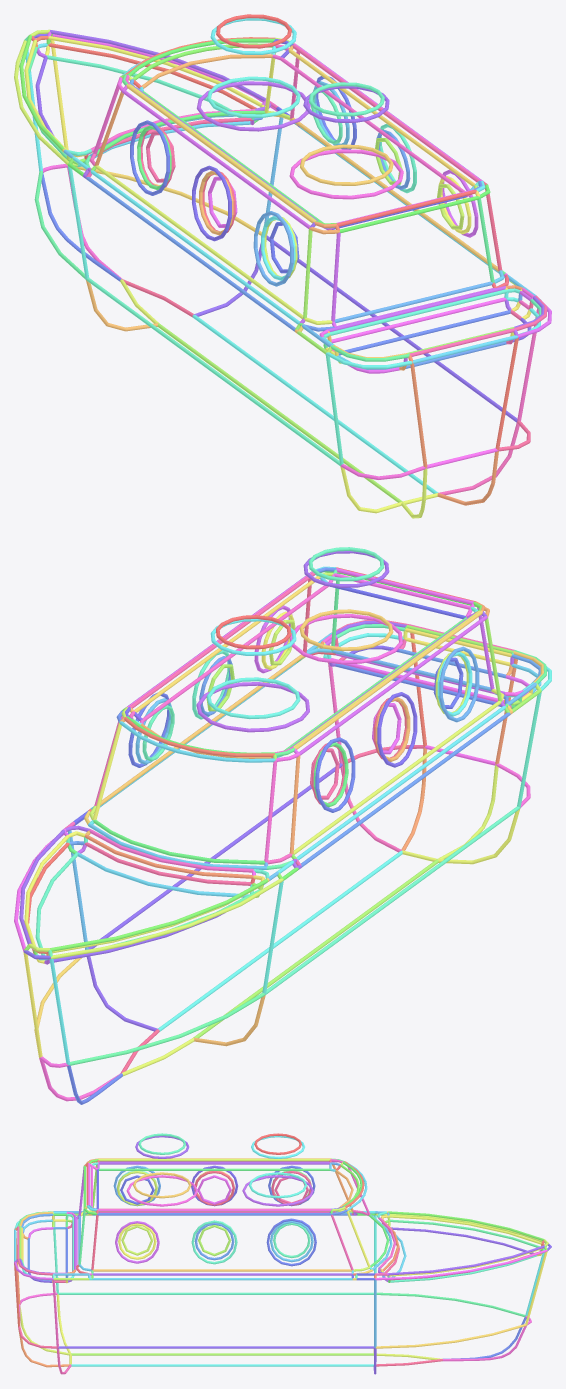
Rendered from onshape_boat.gltf.
The picture shows the model from 3 angles, top to bottom: view 1: azimuth 30°, elevation 25°; view 2: azimuth 150°, elevation 25°; view 3: azimuth 270°, elevation 25°; orthographic projection. The views are drawn at different scales.
Size of the model in its own units: 0.257 by 0.397 by 0.888.
